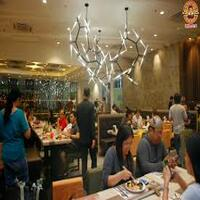person: (1, 74, 32, 153), (141, 105, 171, 161), (74, 80, 101, 132), (109, 123, 137, 170), (167, 85, 189, 126)
